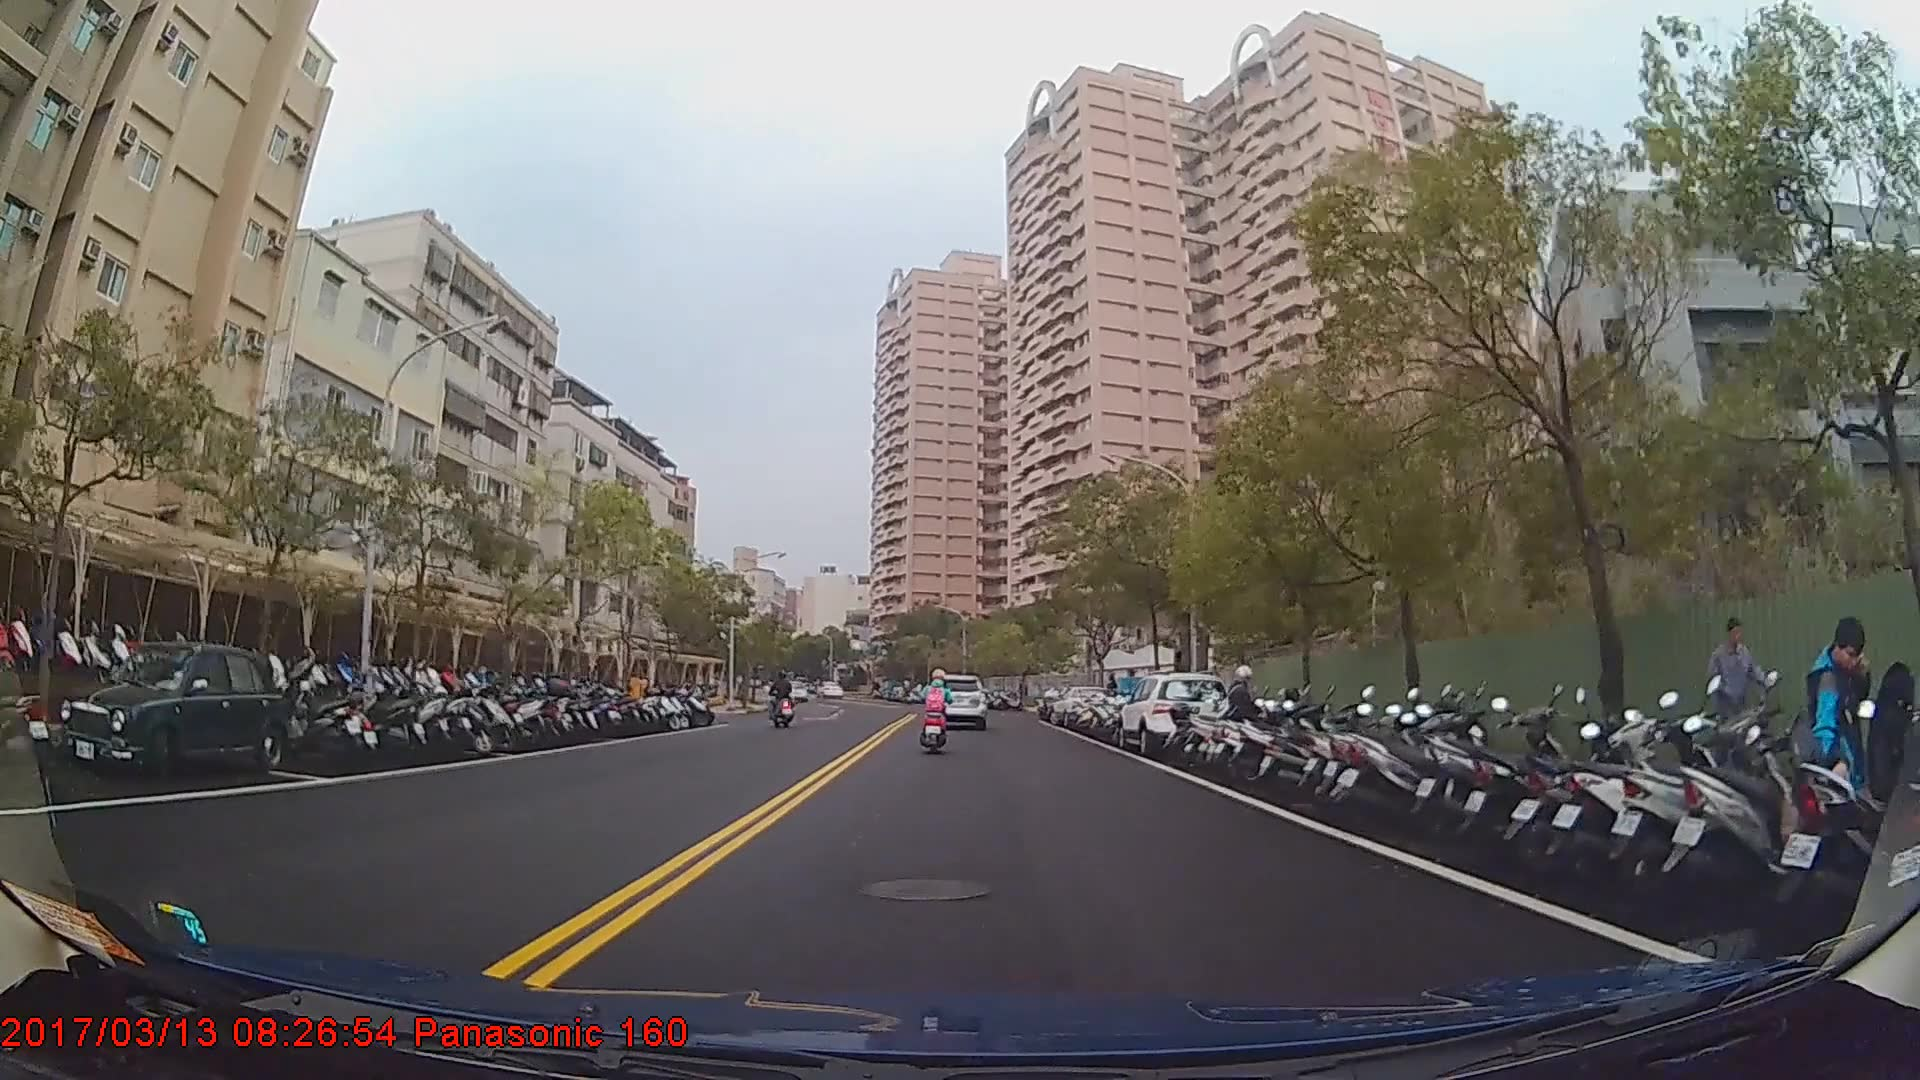pedestrian: (1804, 622, 1882, 898), (1706, 612, 1770, 783)
rider: (919, 670, 955, 756), (770, 671, 796, 731)
vehicle: (57, 639, 288, 784), (1117, 672, 1230, 759), (927, 675, 985, 729), (781, 680, 810, 703)
